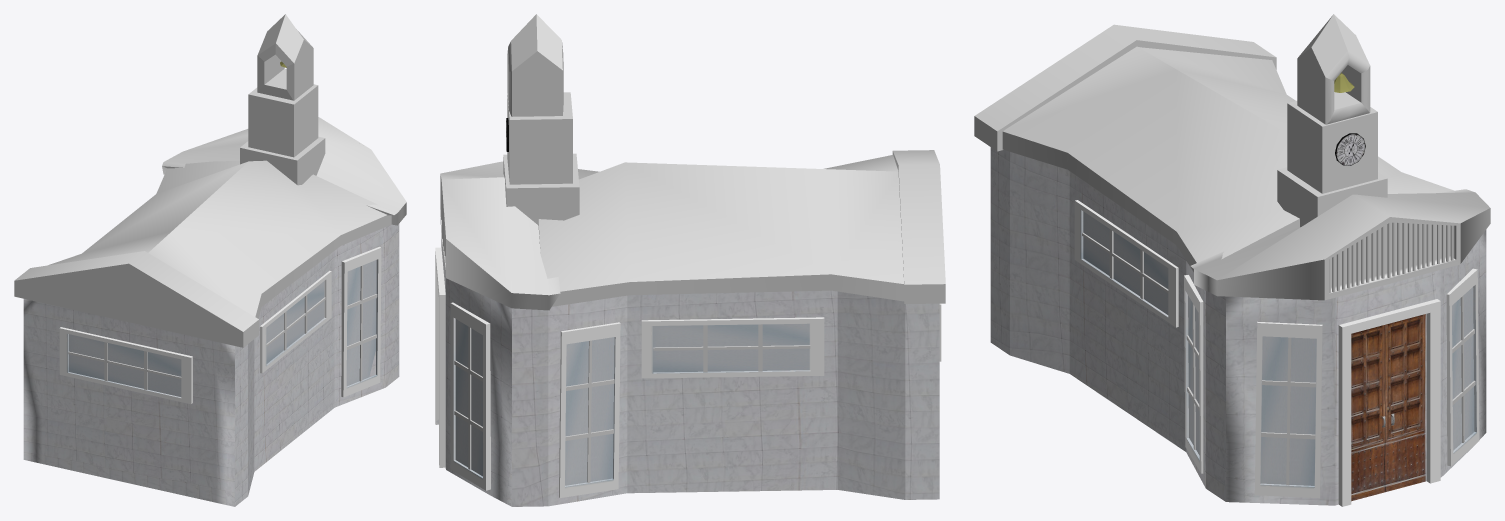
Rendered from TownHall_03_06.fbx.
The picture shows the model from 3 angles, left to right: view 1: azimuth 30°, elevation 25°; view 2: azimuth 150°, elevation 25°; view 3: azimuth 270°, elevation 25°; orthographic projection. The views are drawn at different scales.
Parts seen in each view (by area): view 1: Town_Hall:polySurface1, pCube34, pCube235 (×3), pCube234, pCube38, pCube36, pCube233, pCube35; view 2: Town_Hall:polySurface1, pCube34, pCube235 (×3), pCube38, pCube234, pCube233, pCube36, pCube35, pCube239; view 3: Town_Hall:polySurface1, pCube34, pCube235 (×4), pCube38, pCube234, pCube233, pCube36, pCube35, pCylinder70.
Boxes of the visible parts, x1,y1,x2,y2 form: Town_Hall:polySurface1: (23, 224, 399, 506); pCube34: (48, 160, 391, 318); pCube235 (×3): (59, 247, 381, 404); pCube234: (14, 251, 259, 347); pCube38: (162, 117, 406, 225); pCube36: (248, 84, 318, 157); pCube233: (257, 14, 313, 100); pCube35: (240, 136, 325, 185); Town_Hall:polySurface1: (435, 240, 939, 506); pCube34: (538, 155, 904, 306); pCube235 (×3): (450, 302, 824, 497); pCube38: (440, 161, 560, 310); pCube234: (892, 150, 945, 303); pCube233: (507, 14, 563, 116); pCube36: (507, 92, 572, 184); pCube35: (503, 153, 579, 224); pCube239: (653, 345, 810, 350); Town_Hall:polySurface1: (990, 147, 1486, 506); pCube34: (1002, 46, 1453, 272); pCube235 (×4): (1074, 200, 1479, 498); pCube38: (1190, 189, 1490, 300); pCube234: (974, 24, 1276, 151); pCube233: (1297, 14, 1370, 124); pCube36: (1287, 100, 1377, 193); pCube35: (1277, 167, 1387, 227); pCylinder70: (1335, 133, 1365, 165).
Size of the model in its own units: 214 by 185 by 195.
